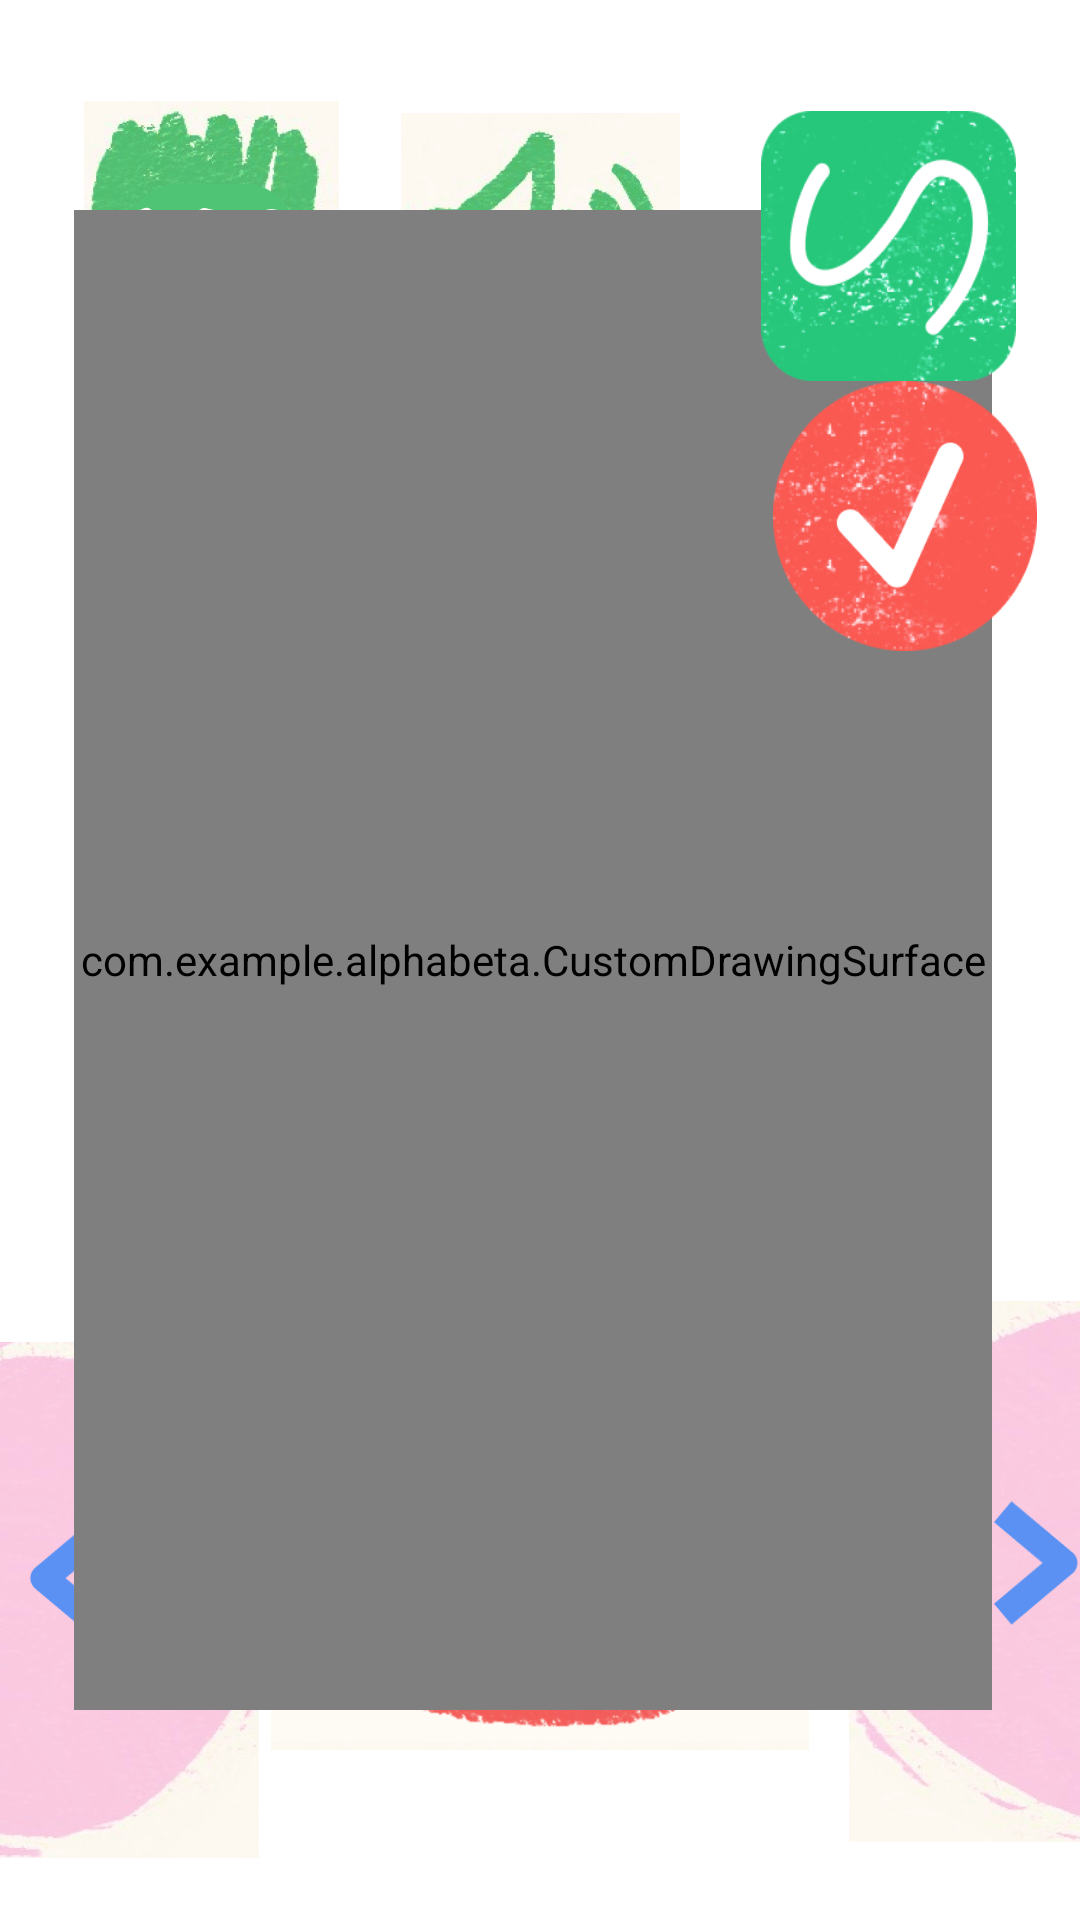

Icons on this 1080px×1920px Android screen, each with the point to tap as (x,y):
proverkaclean: (905,516)
